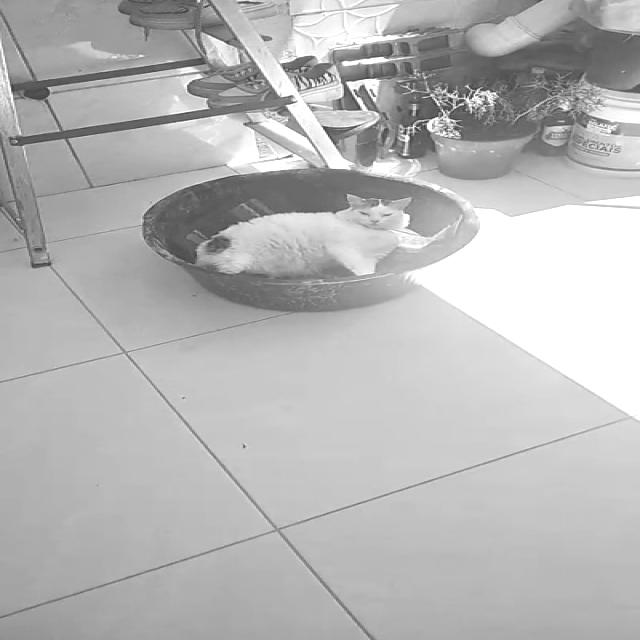Simba: (196, 185, 437, 282)
